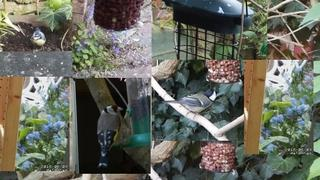blue tit: (30, 27, 46, 51)
goldfinch: (97, 104, 124, 168)
great tit: (161, 86, 217, 120)
